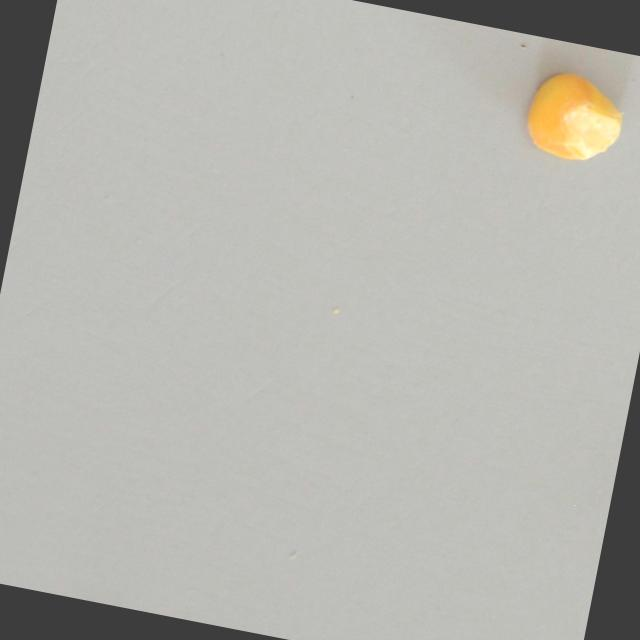no_desgerminado: (518, 65, 637, 171)
